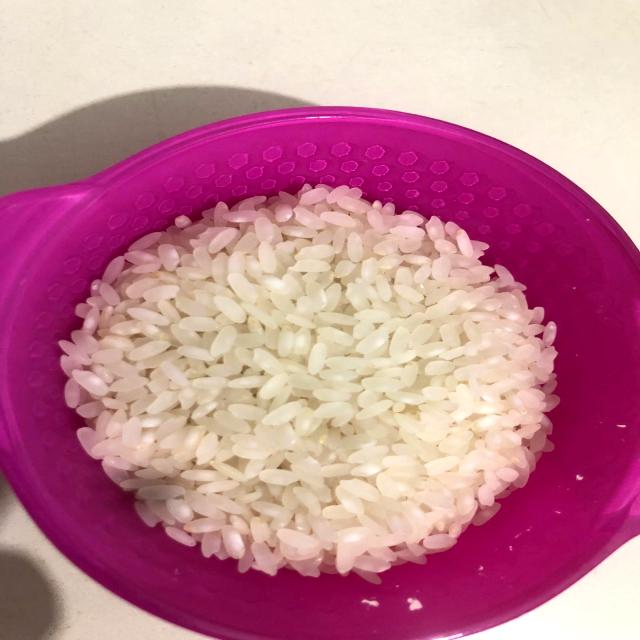rice: (61, 179, 562, 582)
